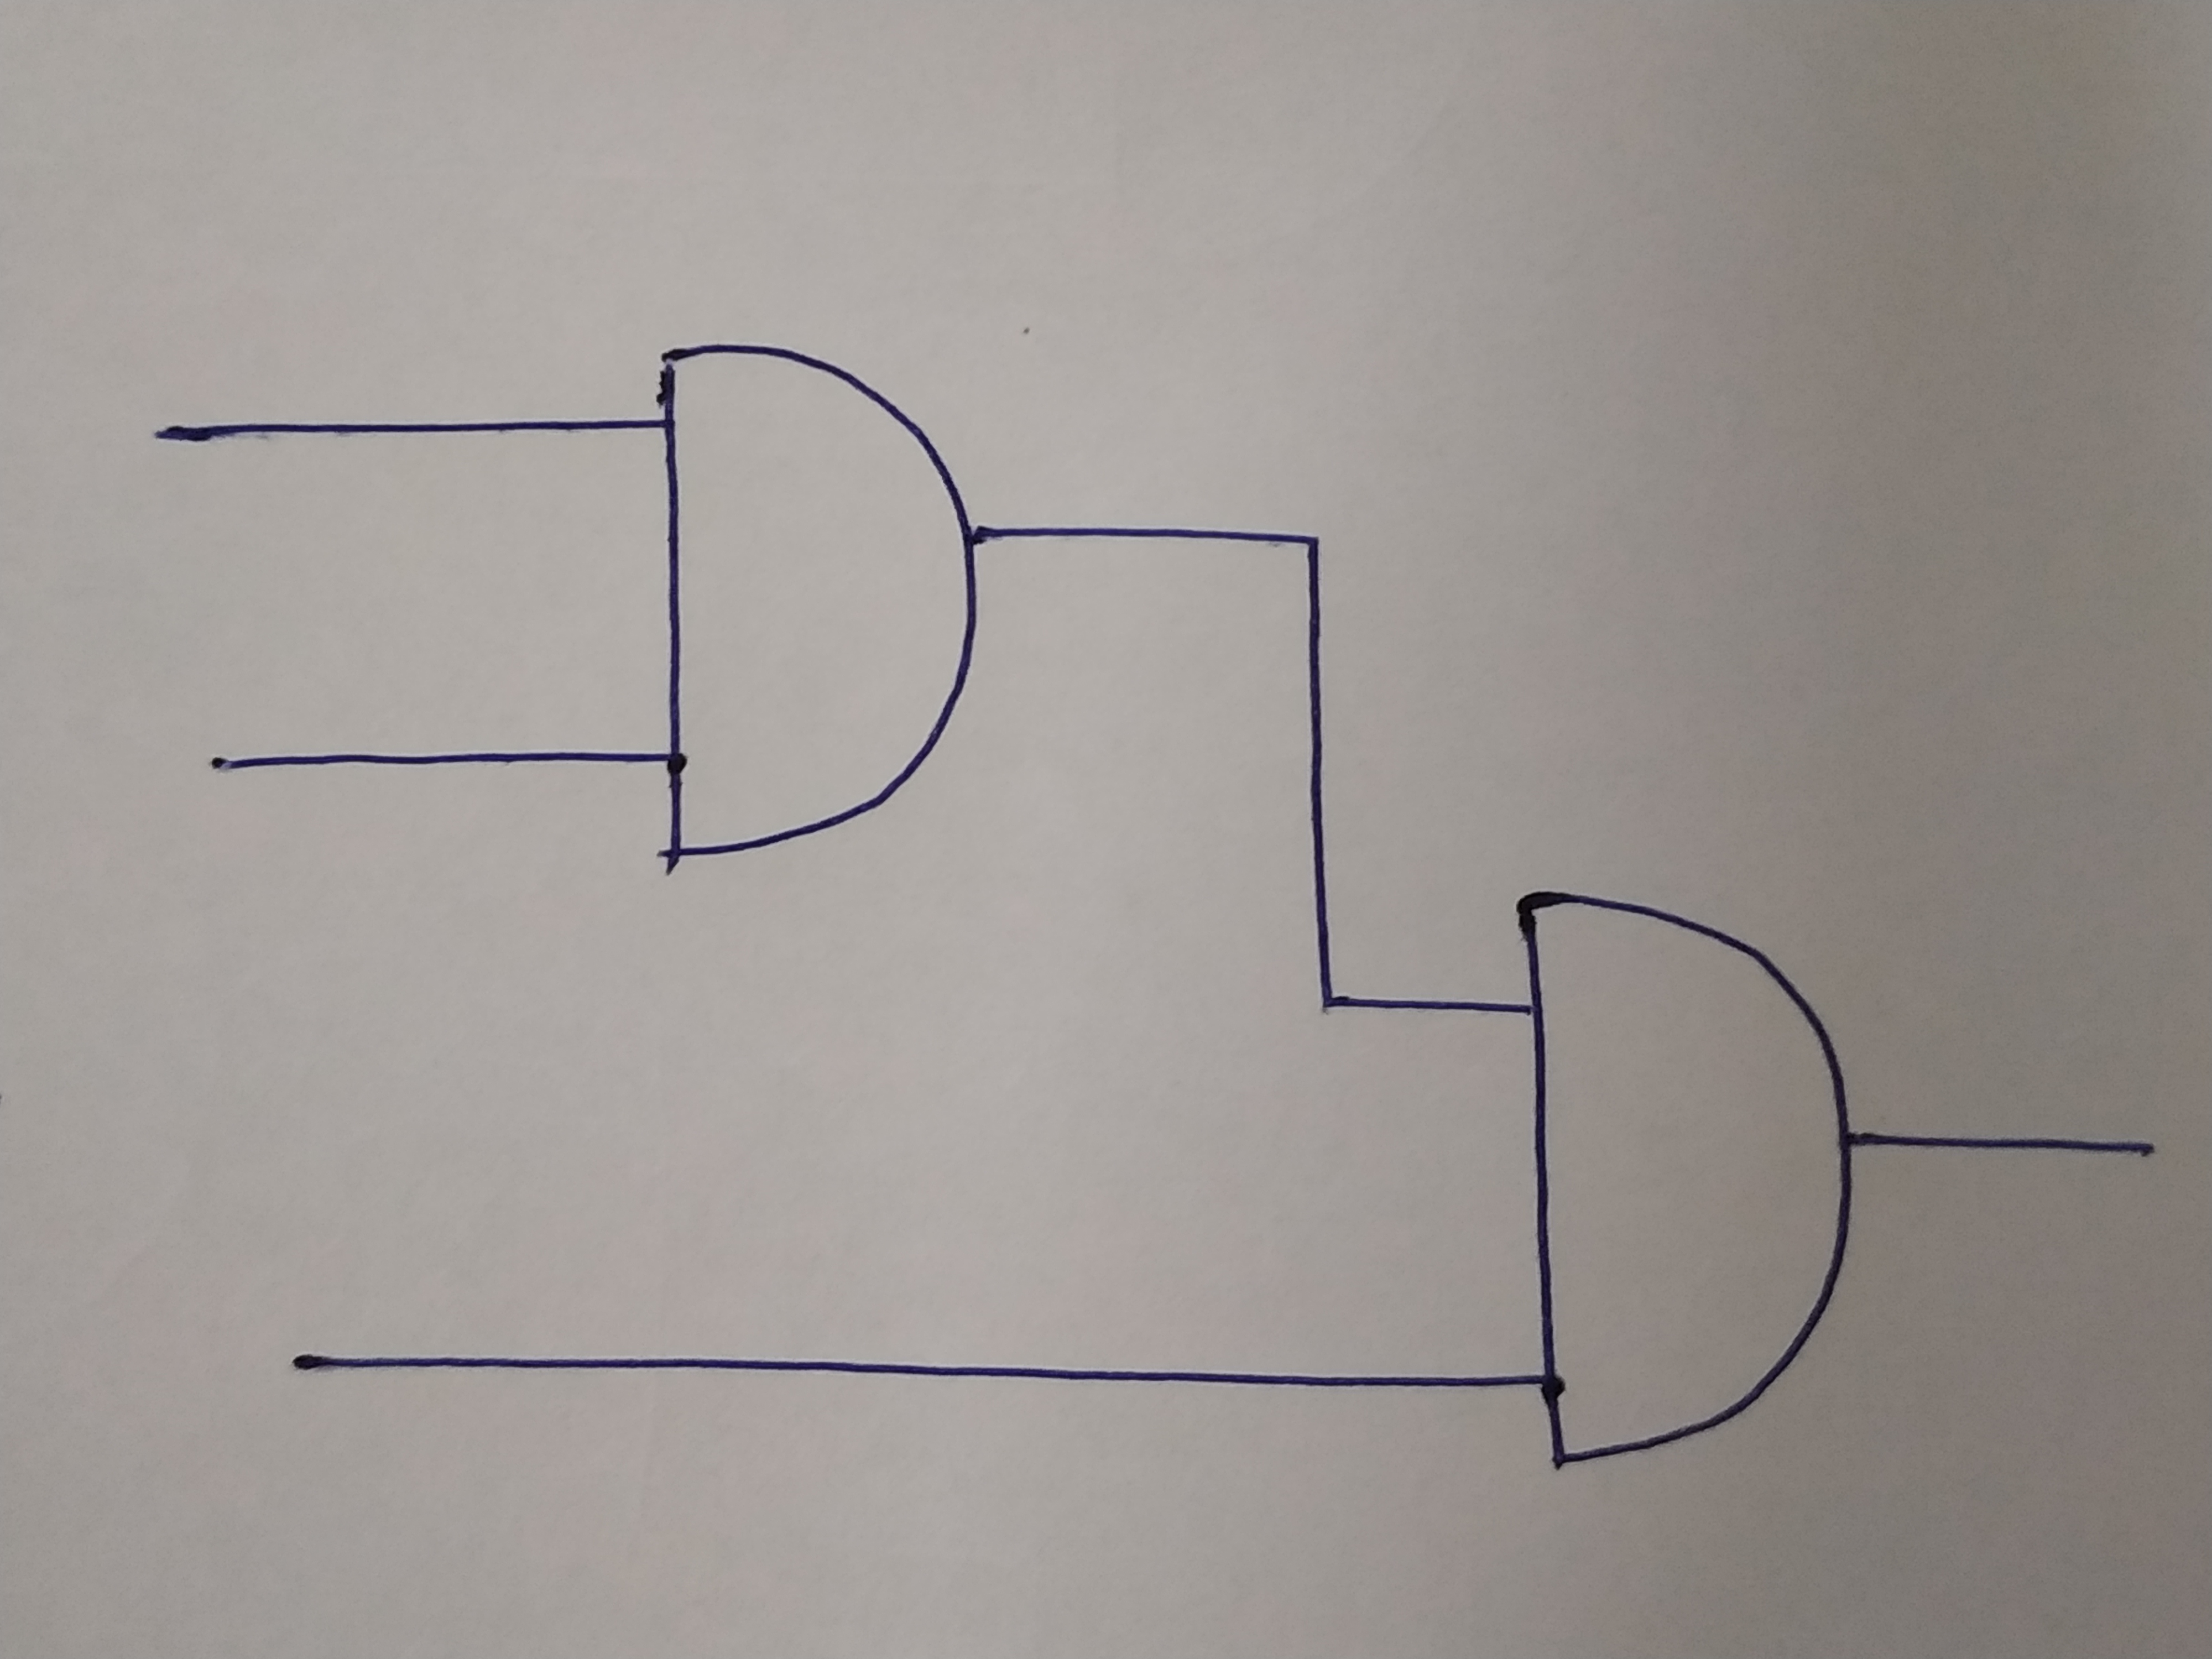and: (1514, 899, 1839, 1459), (653, 343, 977, 864)
